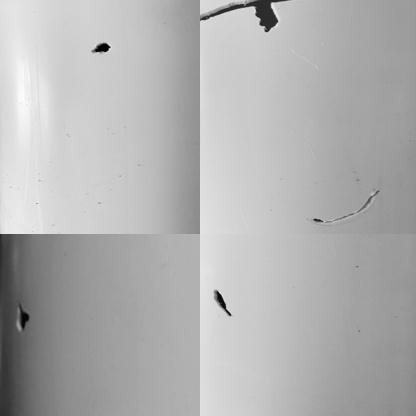fengxi: (306, 189, 384, 225), (199, 2, 296, 20)
kongdong: (9, 301, 43, 339), (252, 4, 283, 34), (209, 286, 236, 314), (88, 41, 114, 55)
